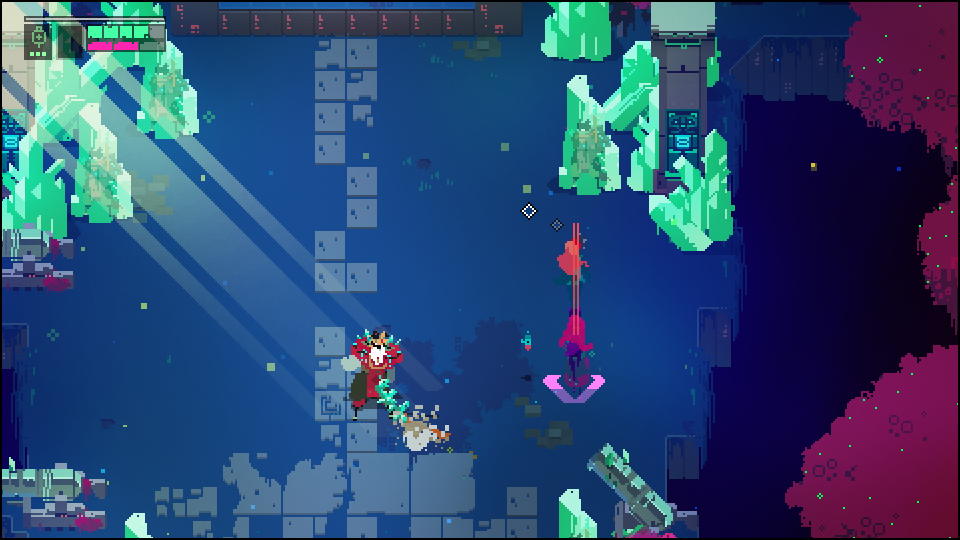hanged_man: (347, 326, 413, 430)
player: (560, 235, 589, 283)
